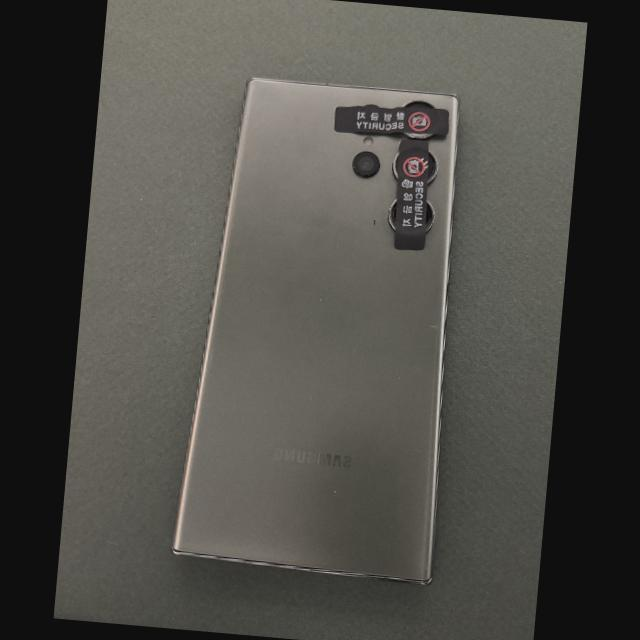lens: (426, 151, 437, 180), (404, 100, 433, 109), (388, 200, 396, 229), (362, 104, 380, 108)
sticker: (393, 139, 428, 250), (333, 105, 449, 136)
